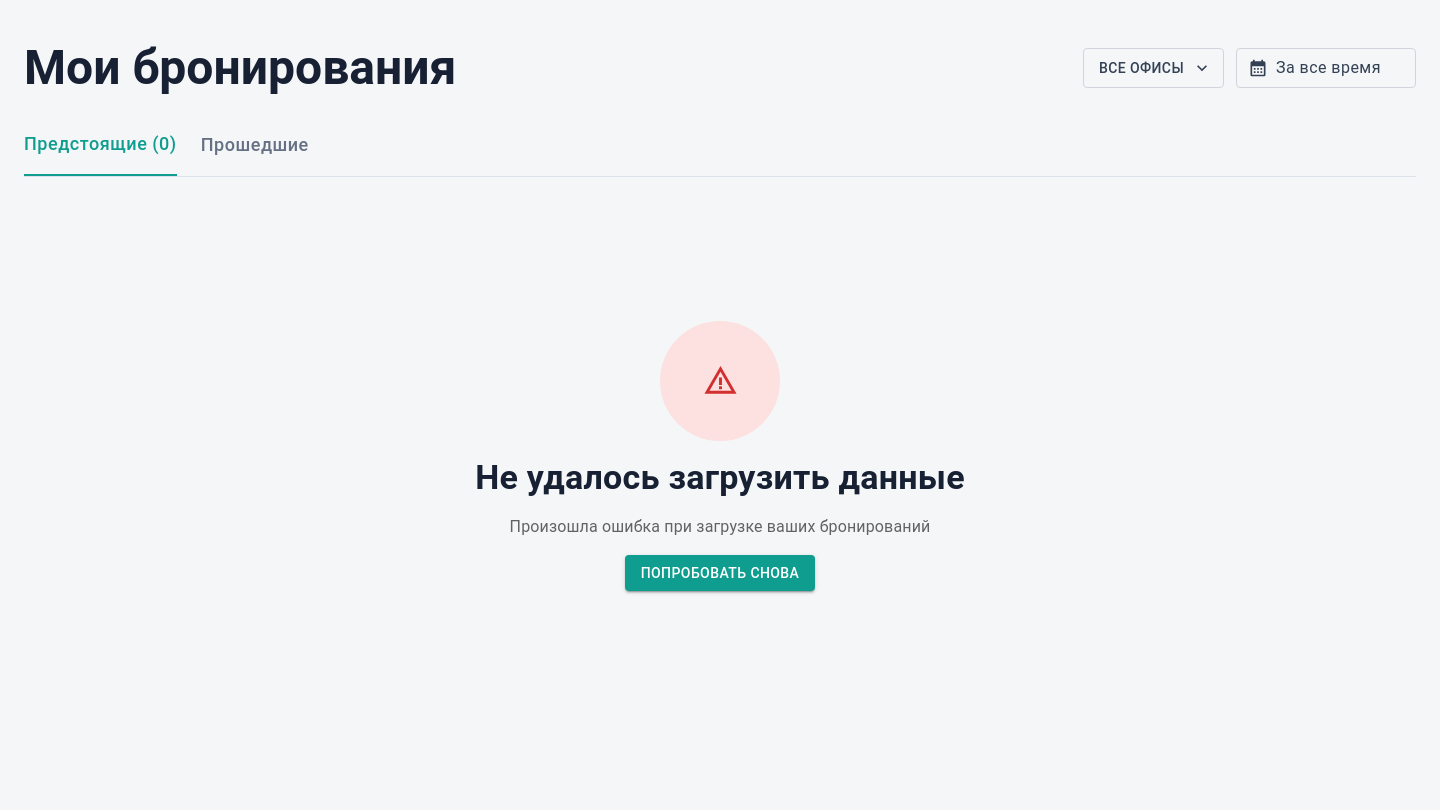
Test case: BookingsPage › reloads bookings from error state
Expected: the heading "Не удалось загрузить данные" is shown, [475,456,965,498]
Click the button "Попробовать снова": (720, 573) [625,554,815,591]
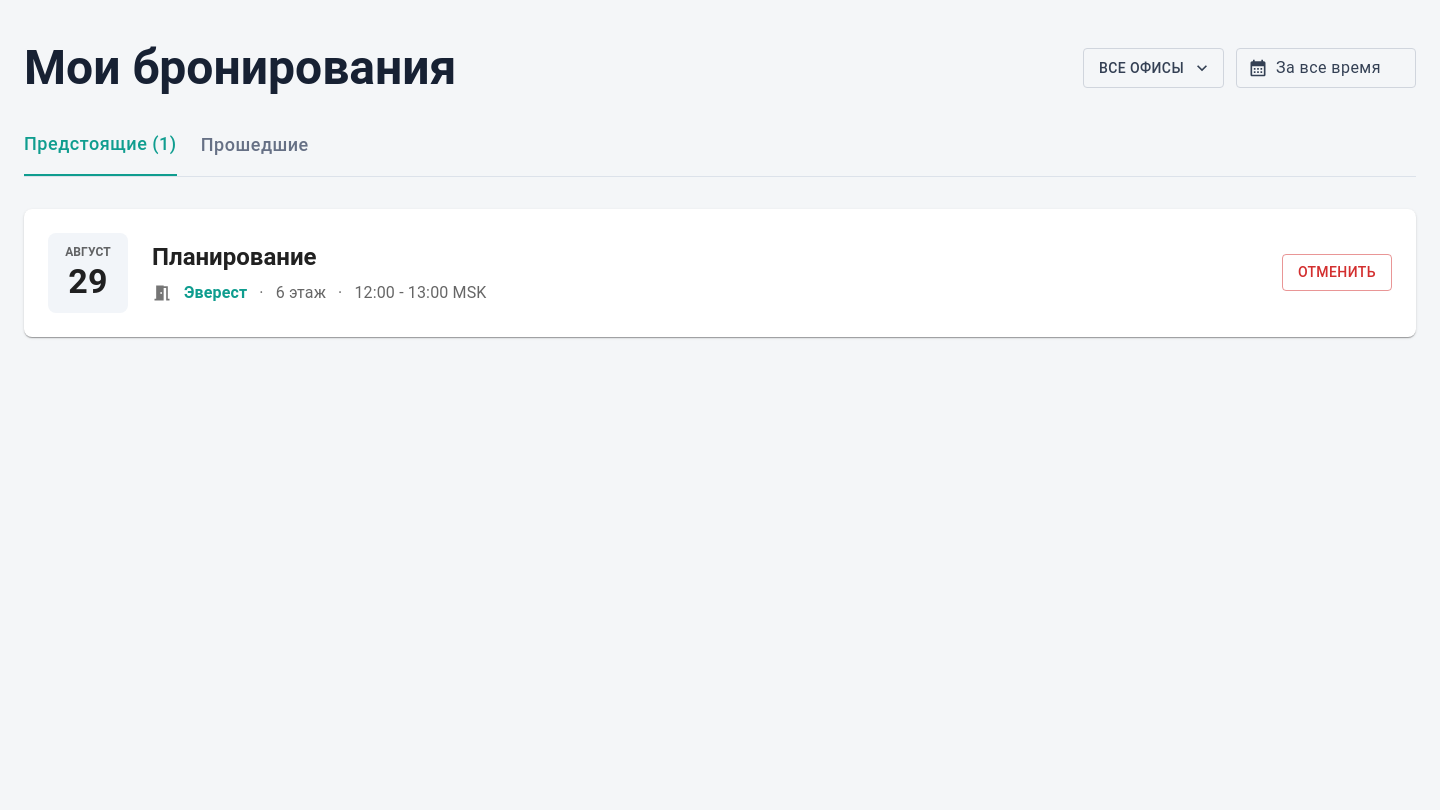
Now the heading "Планирование" is shown, box [152,242,316,270]
